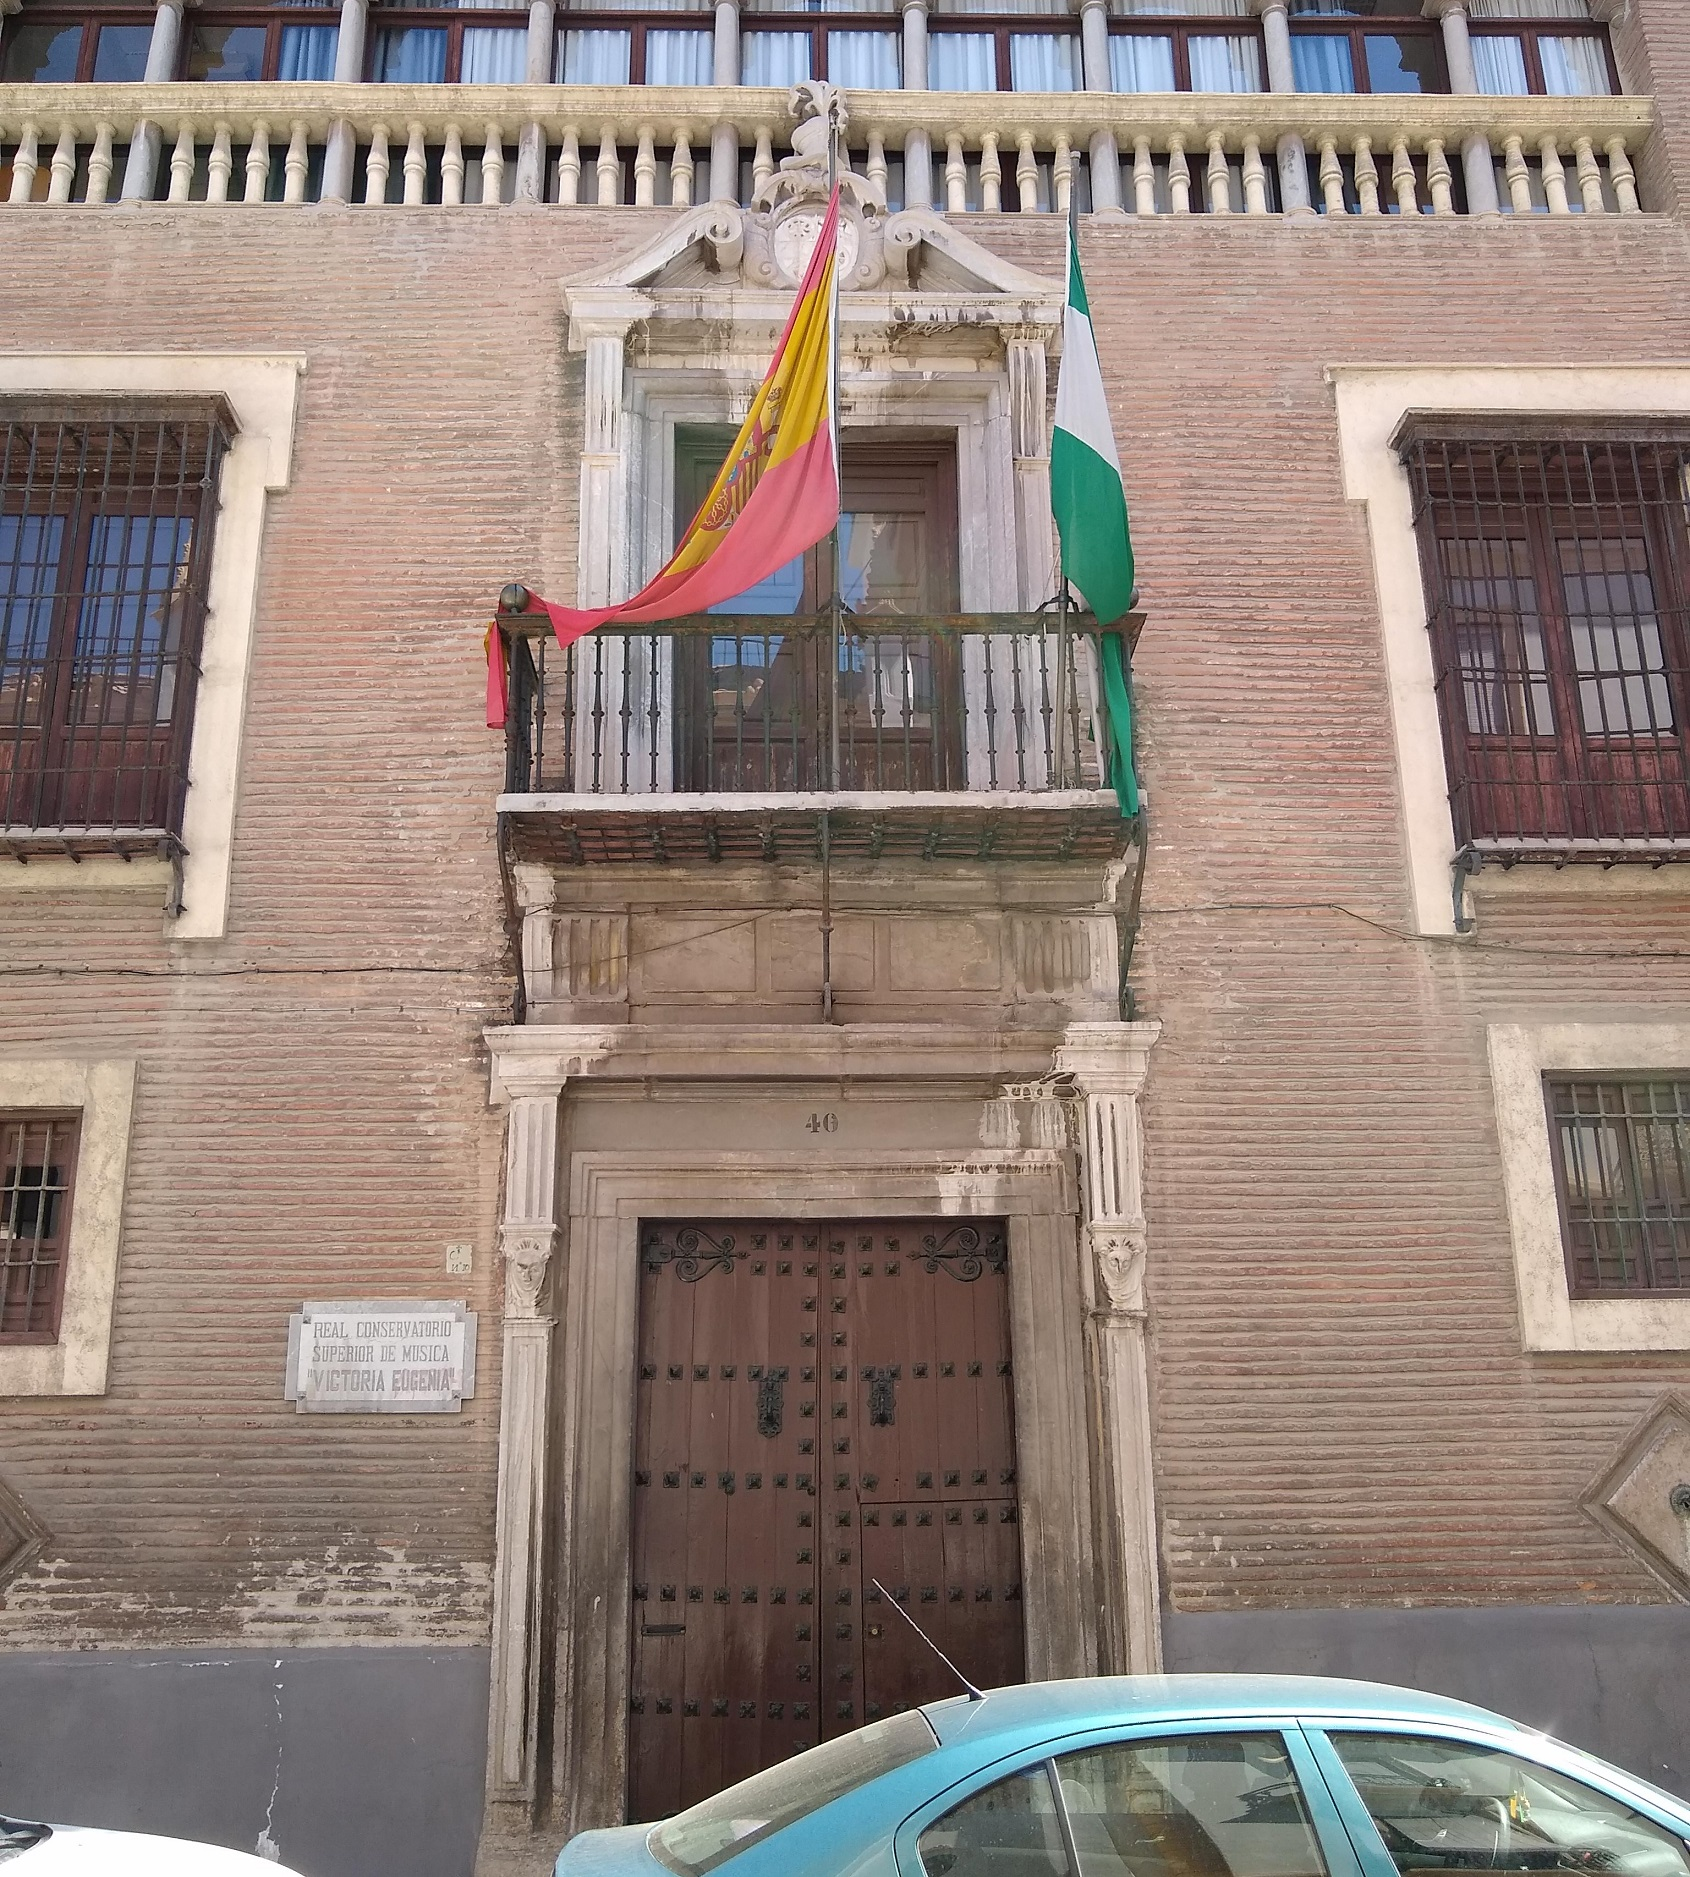fronton-partido: (550, 192, 1077, 333)
vano-adintelado: (563, 1143, 1091, 1830), (622, 360, 1015, 796)
